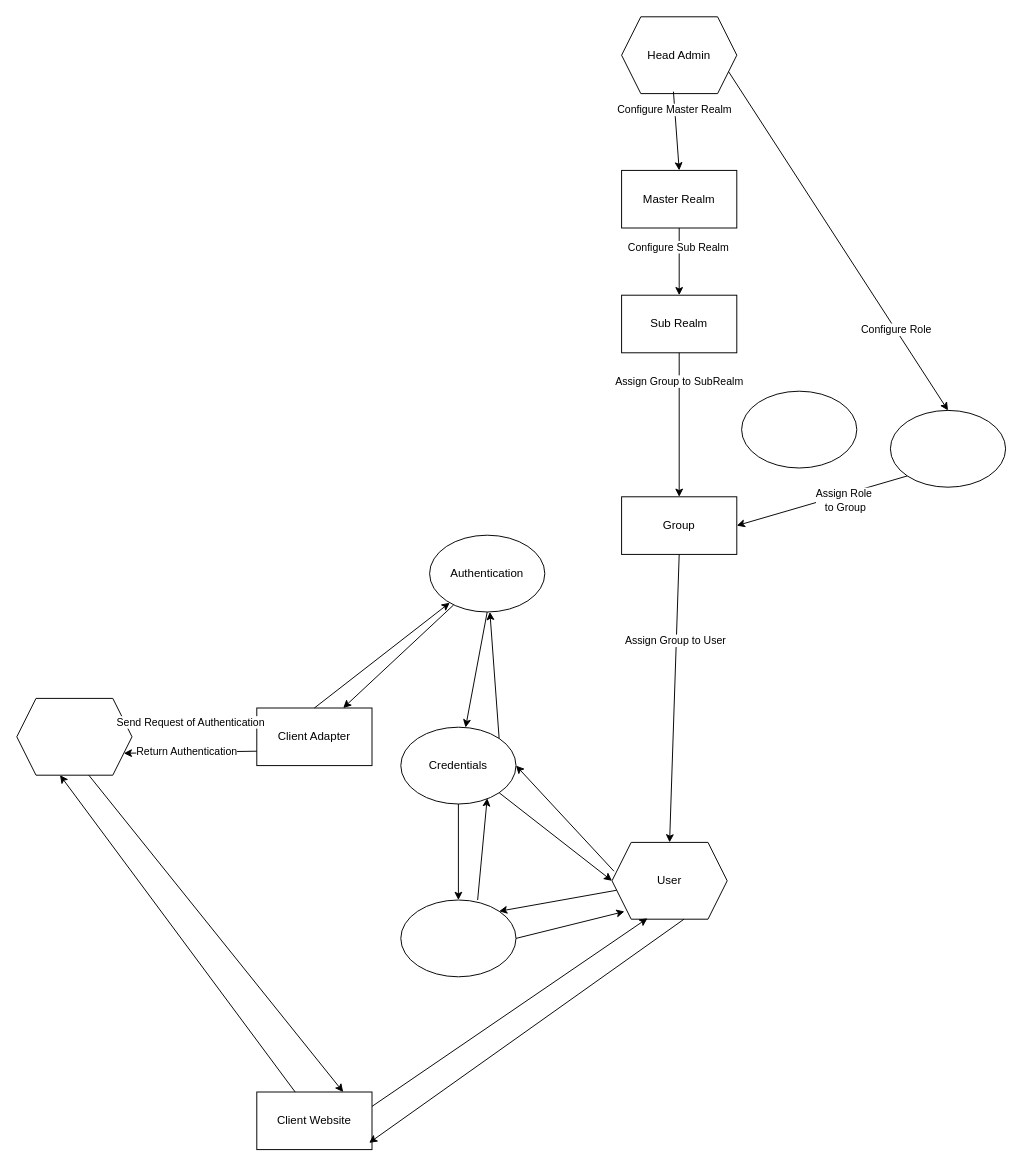
Some shapes in this 1022 by 1167 pixel diagram are drawn without their labels. Here are the shapes that lost their labels. From the top down, the centre of each, then its label:
At (x=799, y=429): "Authorization".
At (x=947, y=448): "Role".
At (x=74, y=736): "Client".
At (x=458, y=938): "Consent".
